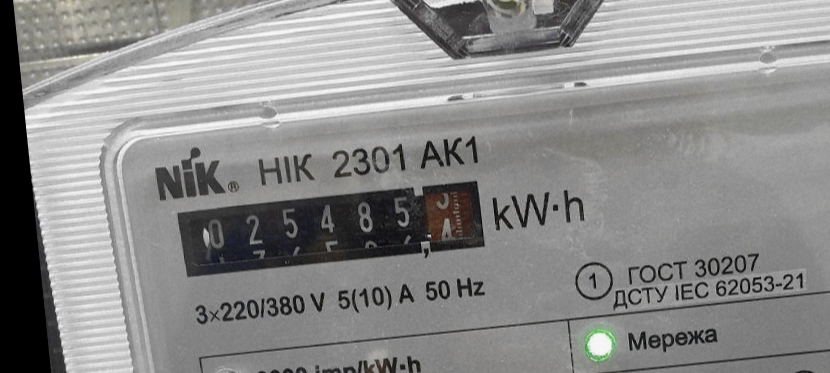0: (202, 214, 226, 251)
2: (241, 210, 264, 247)
4: (313, 199, 337, 235), (434, 213, 456, 243)
5: (388, 192, 412, 231), (276, 203, 300, 240)
8: (352, 195, 375, 235)
screen: (165, 171, 493, 289)
